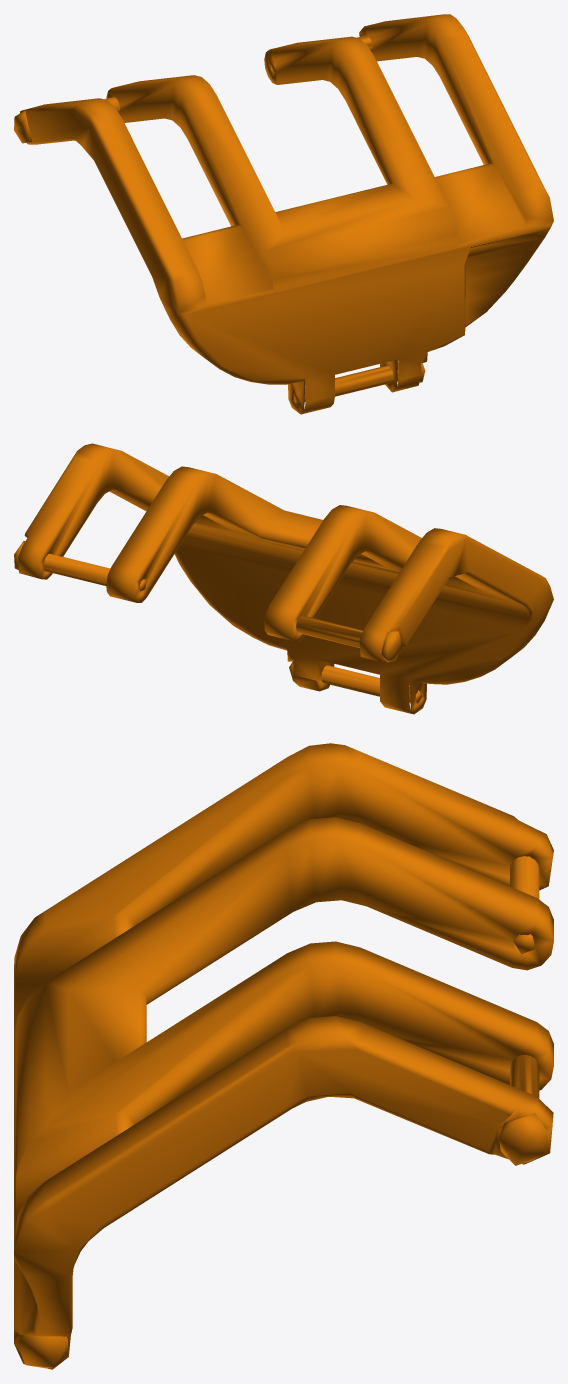
The model's file is inner_double.glb.
3 views of the same model, one above another, from view 1: azimuth 30°, elevation 25°; view 2: azimuth 150°, elevation 25°; view 3: azimuth 270°, elevation 25° (orthographic). The views are drawn at different scales.
Parts seen in each view (by area): view 1: node; view 2: node; view 3: node.
Boxes of the visible parts, x1,y1,x2,y2 form: node: [14, 14, 553, 414]; node: [14, 443, 553, 714]; node: [14, 743, 553, 1369].
Bounding box in the file's own units: 0.095 × 0.0656 × 0.0735.
